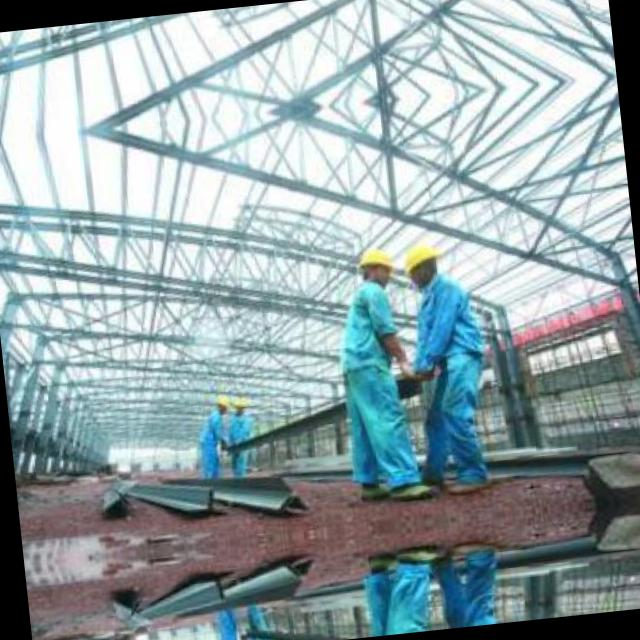helmet: (354, 243, 396, 286), (399, 238, 441, 280)
